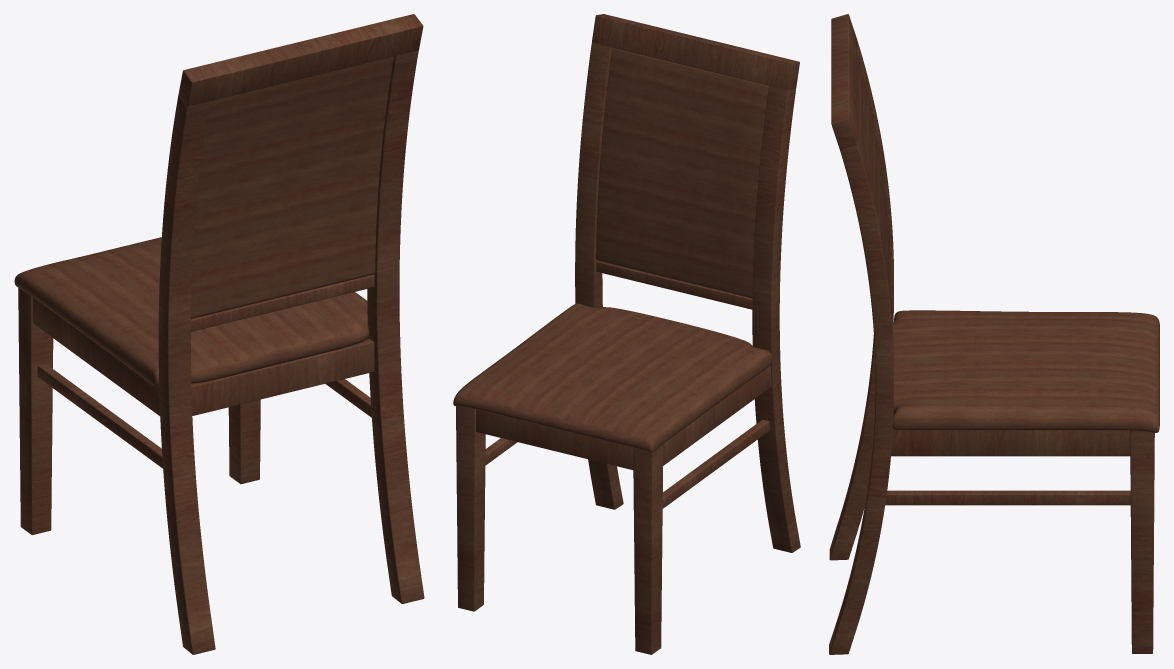
File: sill.obj
The picture shows the model from 3 angles, left to right: view 1: azimuth 30°, elevation 25°; view 2: azimuth 150°, elevation 25°; view 3: azimuth 270°, elevation 25°; orthographic projection. The views are drawn at different scales.
Visible parts, largest first — view 1: ChamferBox157, Box026, ChamferBox158, ChamferBox166, ChamferBox162, ChamferBox163, ChamferBox161, ChamferBox160, ChamferBox164, ChamferBox159, ChamferBox169, ChamferBox165; view 2: ChamferBox157, Box026, ChamferBox158, ChamferBox166, ChamferBox162, ChamferBox163, ChamferBox164, ChamferBox167, ChamferBox160, ChamferBox169, ChamferBox159; view 3: Box026, ChamferBox166, ChamferBox168, ChamferBox164, ChamferBox158, ChamferBox165, ChamferBox162, ChamferBox157.
Part boxes in pixels (x1,y1,x2,y2): ChamferBox157: [191, 56, 393, 318]; Box026: [14, 237, 369, 386]; ChamferBox158: [158, 95, 215, 654]; ChamferBox166: [367, 50, 424, 603]; ChamferBox162: [178, 14, 423, 106]; ChamferBox163: [18, 288, 53, 534]; ChamferBox161: [191, 339, 374, 415]; ChamferBox160: [32, 297, 160, 416]; ChamferBox164: [228, 399, 260, 484]; ChamferBox159: [37, 363, 162, 468]; ChamferBox169: [191, 274, 374, 331]; ChamferBox165: [325, 379, 371, 417]; ChamferBox157: [596, 48, 768, 298]; Box026: [453, 303, 772, 452]; ChamferBox158: [752, 85, 800, 552]; ChamferBox166: [575, 42, 623, 509]; ChamferBox162: [592, 14, 799, 89]; ChamferBox163: [633, 444, 663, 654]; ChamferBox164: [456, 406, 485, 611]; ChamferBox167: [476, 409, 633, 469]; ChamferBox160: [663, 365, 771, 465]; ChamferBox169: [596, 261, 752, 309]; ChamferBox159: [662, 419, 769, 508]; Box026: [892, 310, 1159, 432]; ChamferBox166: [829, 135, 893, 654]; ChamferBox168: [891, 428, 1130, 456]; ChamferBox164: [1130, 430, 1154, 653]; ChamferBox158: [829, 41, 893, 560]; ChamferBox165: [885, 490, 1130, 505]; ChamferBox162: [831, 14, 857, 149]; ChamferBox157: [857, 62, 890, 298].
Size of the model in its own units: 16.12 by 37.7 by 21.05.
Materials: 1 (1 with a texture image).
